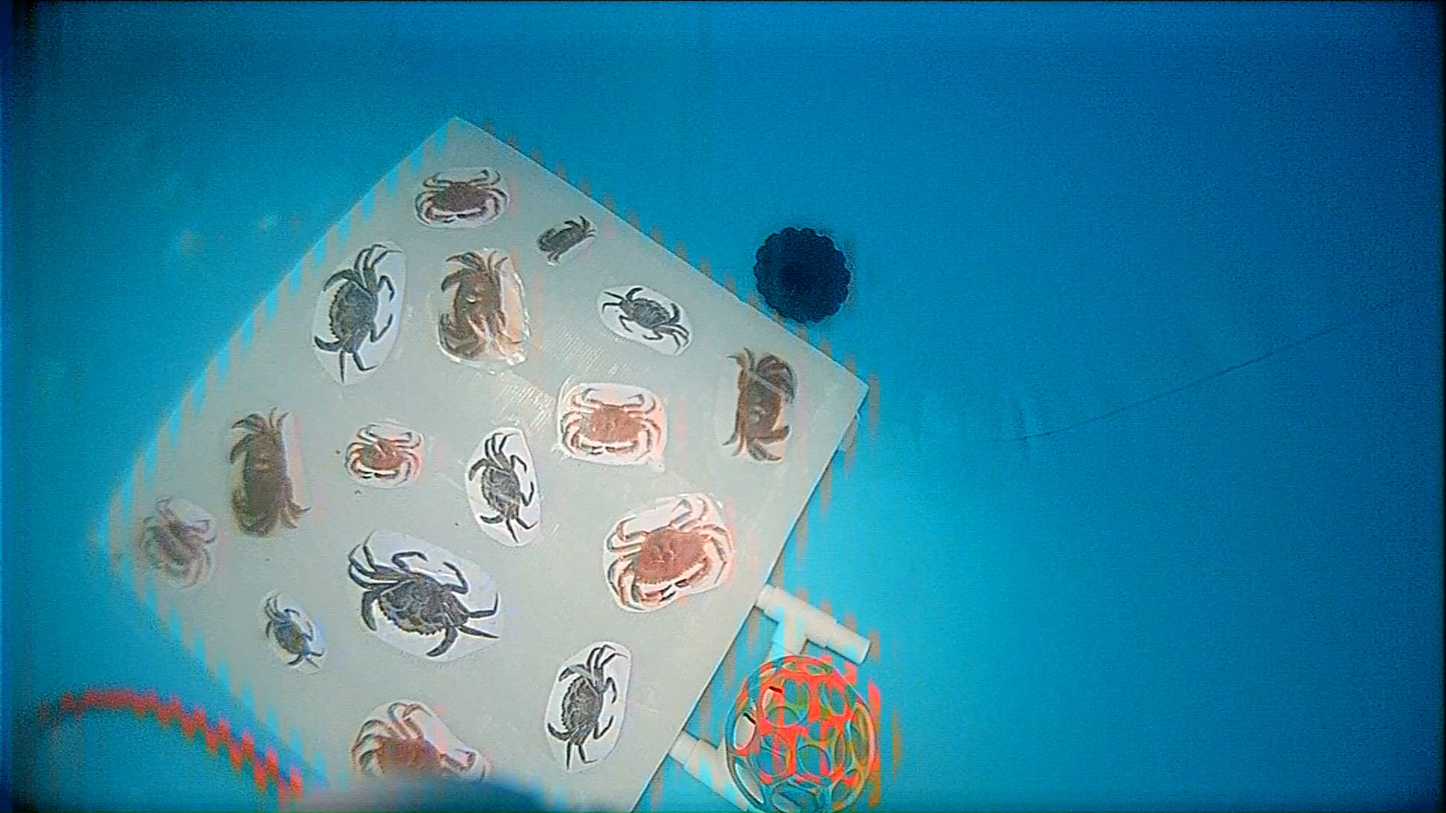GreenCrab: (348, 537, 499, 657), (313, 244, 397, 382), (547, 646, 618, 767), (468, 435, 535, 541), (601, 286, 689, 349), (264, 595, 324, 665)
